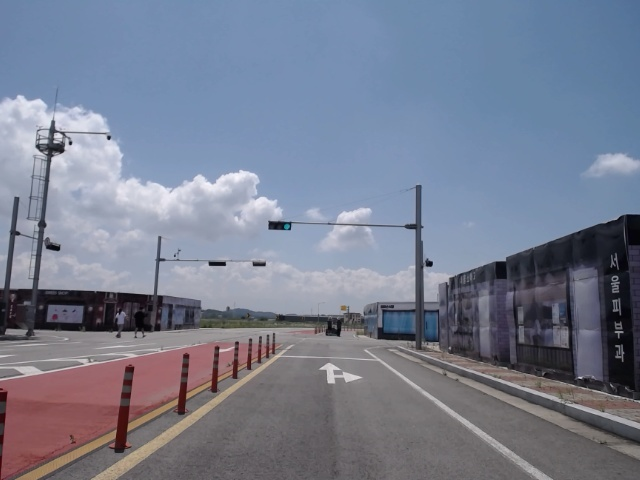green_3: (270, 222, 291, 230)
